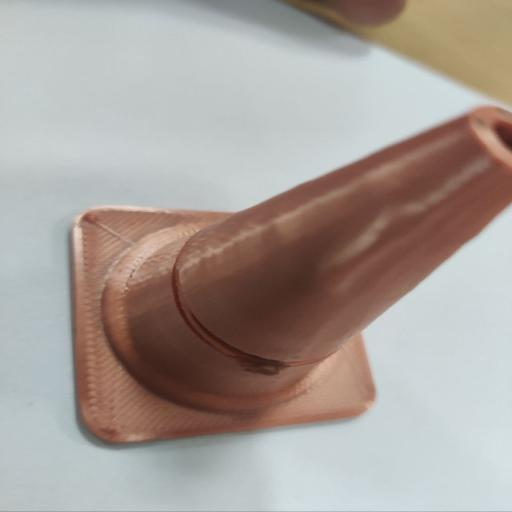cracks: (150, 248, 332, 390)
